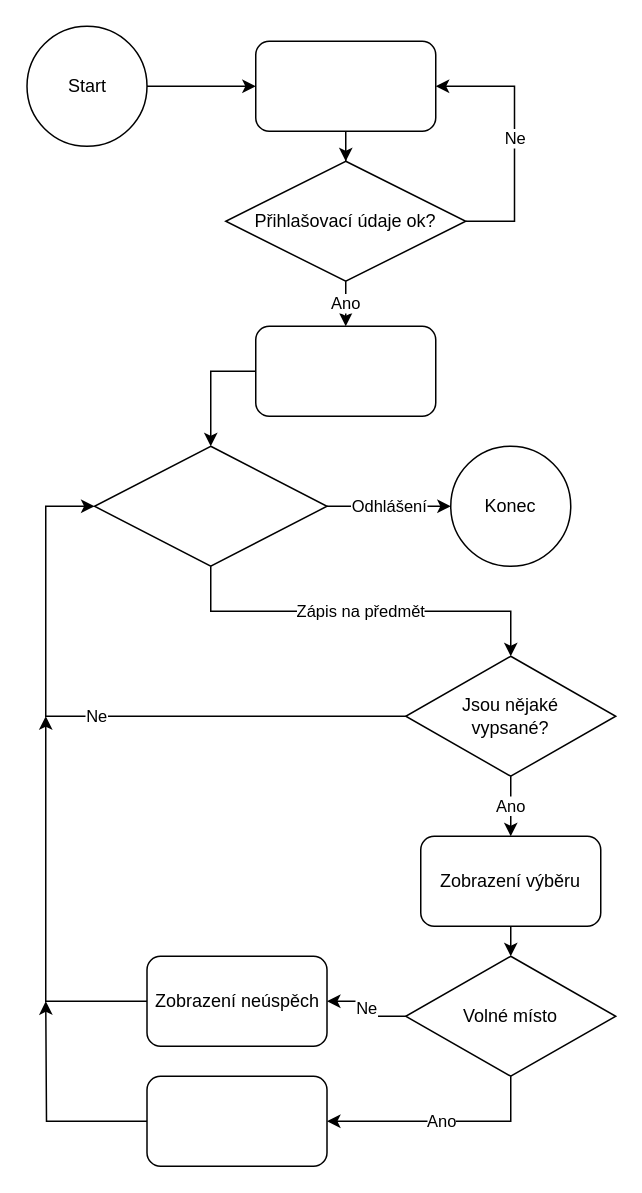
The diagram is 642 pixels wide and 1193 high, and some of its shapes have lost their labels. Each missing label, with the centre of its shape:
Výběr aktivity: the point at 210,505
Zobrazení menu: the point at 345,370
Zobrazení přihlašovacího formuláře: the point at 345,85
Zobrazení úspěch: the point at 236,1120
